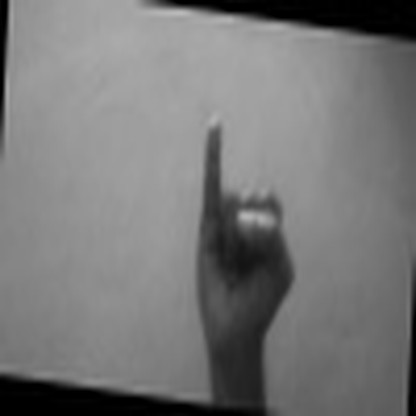i: (178, 110, 303, 331)
